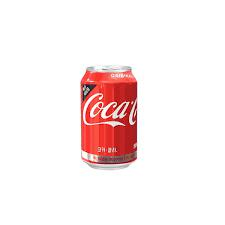cocacola: (74, 58, 147, 172)
